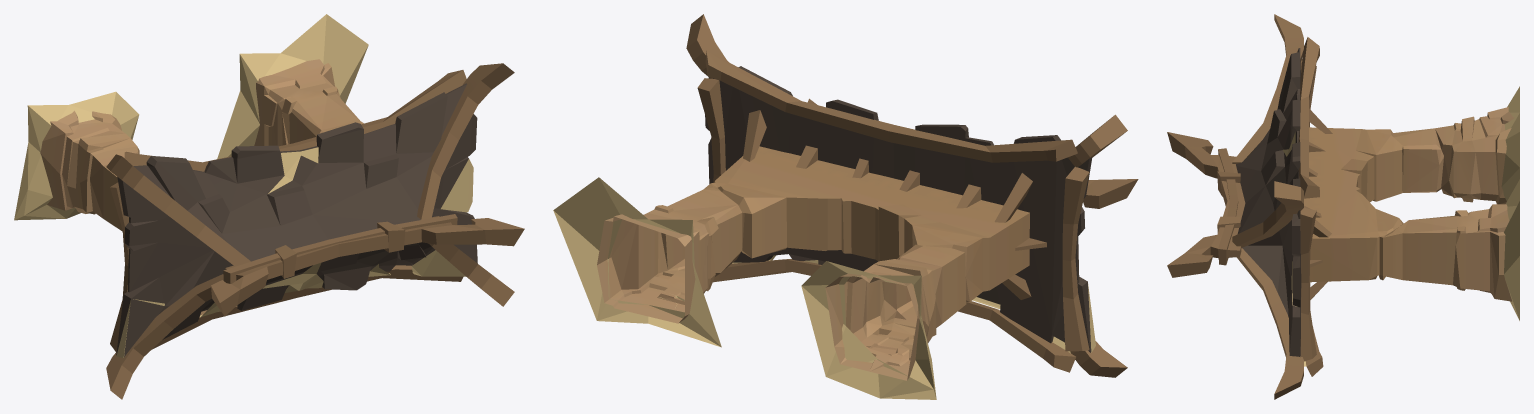
File: terrain_door_203_LOD0 (merge).fbx
3 views of the same model, side by side, from view 1: azimuth 30°, elevation 25°; view 2: azimuth 150°, elevation 25°; view 3: azimuth 270°, elevation 25° (orthographic). The views are drawn at different scales.
Parts seen in each view (by area): view 1: terrain_door_203_LOD0; view 2: terrain_door_203_LOD0; view 3: terrain_door_203_LOD0.
Boxes of the visible parts, left/top/right/bottom form: terrain_door_203_LOD0: left=14, top=14, right=524, bottom=399; terrain_door_203_LOD0: left=553, top=14, right=1138, bottom=399; terrain_door_203_LOD0: left=1167, top=14, right=1519, bottom=399.
Size of the model in its own units: 16.28 by 9.38 by 13.7.
1 material, 1 textured.
